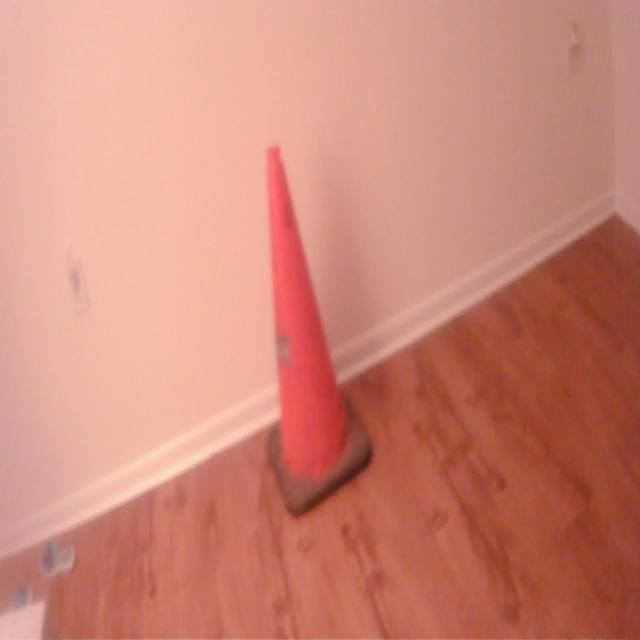traffic cone: (262, 139, 377, 526)
